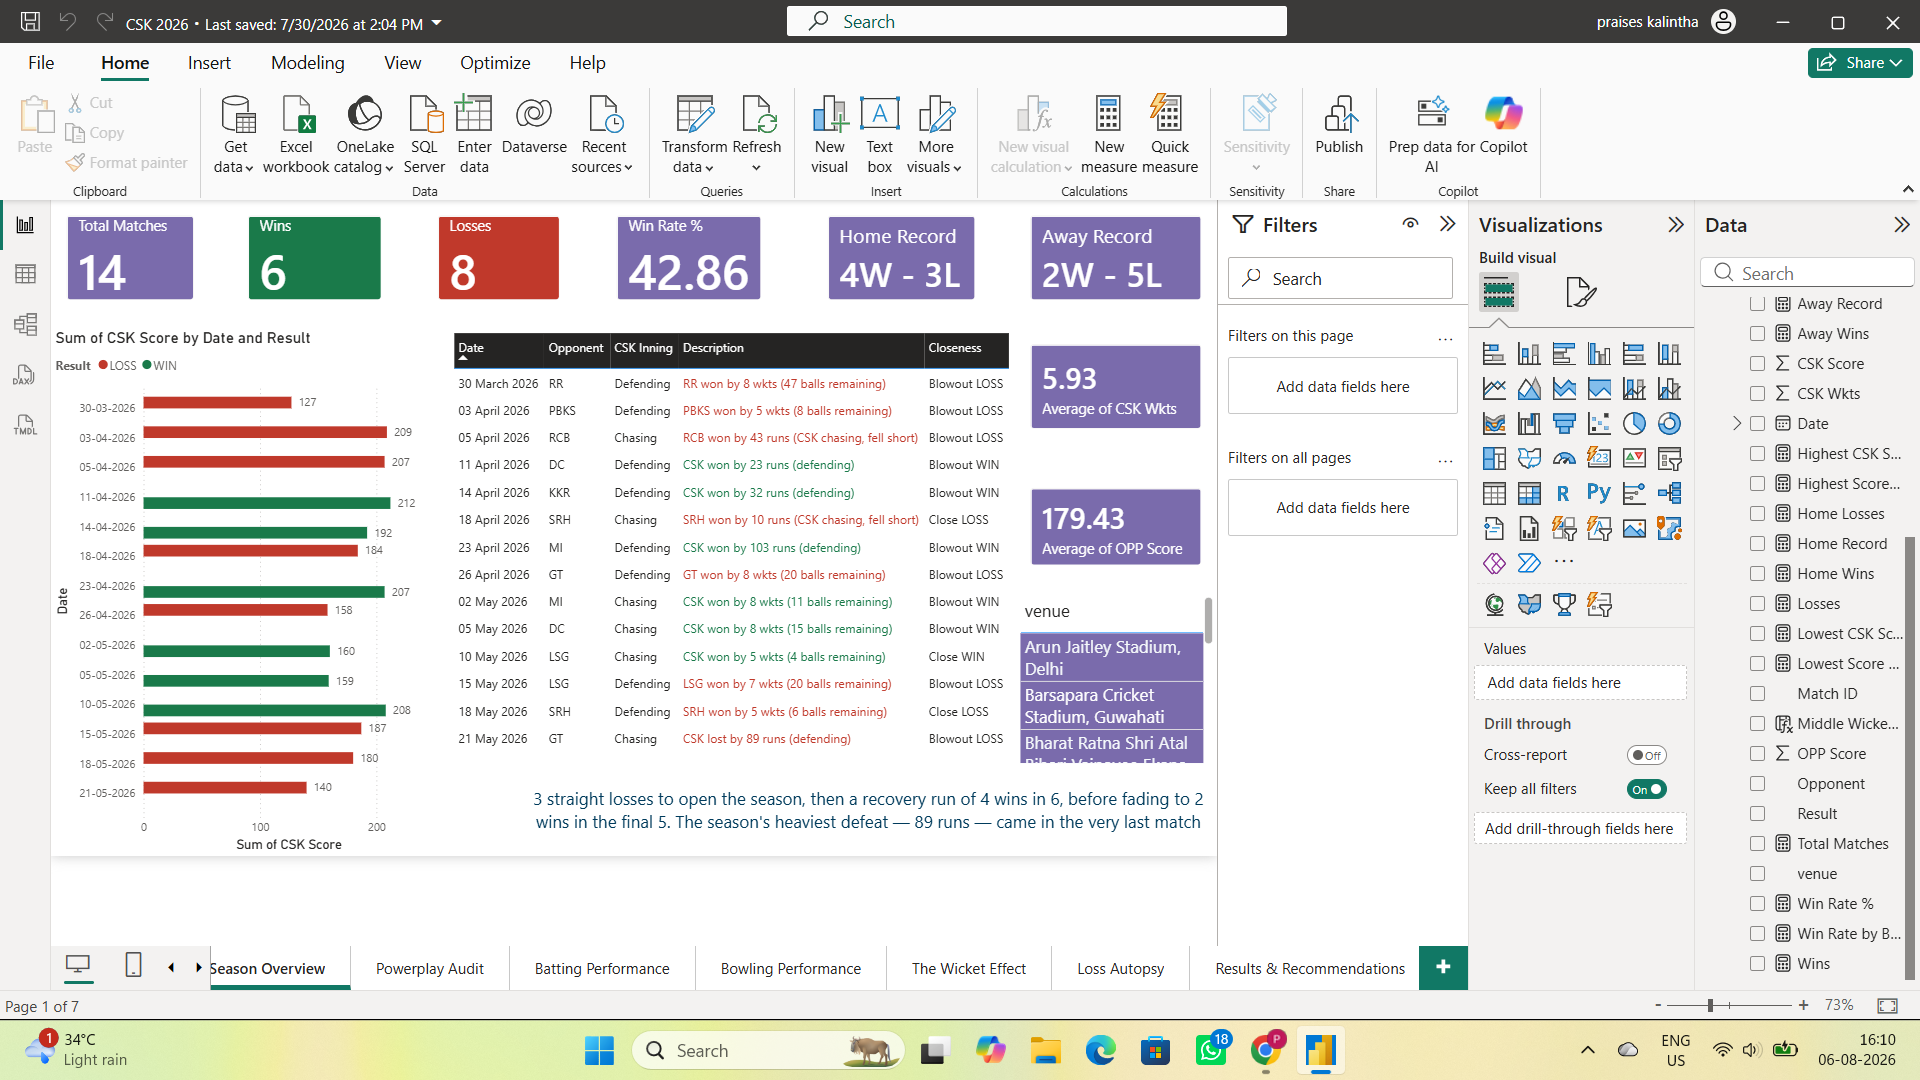

What the dashboard file says about the page in this screenshot:
{"tool":"powerbi","page":{"name":"Season Overview","canvas":[1280,720],"ordinal":0},"visuals":[{"type":"cardVisual","title":"Matches Played","fields":{"Data":["results.Total Matches"]},"box":[0,0,174.3,127.6],"z":0},{"type":"cardVisual","title":"Losses","fields":{"Data":["results.Losses"]},"box":[407.5,0,168.8,127.6],"z":1000},{"type":"cardVisual","title":"Win Rate %","fields":{"Data":["results.Win Rate %"]},"box":[603.8,0,193.5,127.6],"z":2000},{"type":"cardVisual","title":"Wins","fields":{"Data":["results.Wins"]},"box":[199,0,181.1,127.6],"z":3000},{"type":"cardVisual","fields":{"Data":["results.Away Record"]},"box":[1058,0,222.3,127.6],"z":4000},{"type":"cardVisual","fields":{"Data":["results.Home Record"]},"box":[835.7,0,196.2,127.6],"z":5000},{"type":"clusteredBarChart","fields":{"Category":["results.Date"],"Series":["results.Result"],"Y":["Sum(results.CSK Score)"]},"box":[0,153.7,380.1,566.7],"z":6000},{"type":"cardVisual","fields":{"Data":["Avg(results.OPP Score)"]},"box":[1058,299.1,222.3,119.4],"z":7000},{"type":"cardVisual","fields":{"Data":["Avg(results.CSK Wkts)"]},"box":[1058,141.3,222.3,127.6],"z":8000},{"type":"textbox","box":[419.9,645.6,842.5,74.3],"z":9000},{"type":"tableEx","fields":{"Values":["results.venue"]},"box":[1058,430.9,222.3,192.1],"z":10000},{"type":"tableEx","fields":{"Values":["csk_verified_closeness.date","csk_verified_closeness.opponent","csk_verified_closeness.Match Type Fixed","csk_verified_closeness.description","csk_verified_closeness.Loss Category"]},"box":[419.9,141.3,621.6,481.6],"z":11000}]}

Visuals, with their boxes on the page's 1280x720 design canvas (x1, y1, x2, y2). These are canvas units, not pixel positions in the 1920x1080 screenshot, which may show the page scaled, cropped or inside an application window:
"Matches Played" cardVisual: [0,0,174,128]
"Losses" cardVisual: [408,0,576,128]
"Win Rate %" cardVisual: [604,0,797,128]
"Wins" cardVisual: [199,0,380,128]
cardVisual - results.Away Record: [1058,0,1280,128]
cardVisual - results.Home Record: [836,0,1032,128]
clusteredBarChart - results.Date x results.Result: [0,154,380,720]
cardVisual - Avg(results.OPP Score): [1058,299,1280,418]
cardVisual - Avg(results.CSK Wkts): [1058,141,1280,269]
textbox: [420,646,1262,720]
tableEx - results.venue: [1058,431,1280,623]
tableEx - csk_verified_closeness.date x csk_verified_closeness.opponent: [420,141,1042,623]
